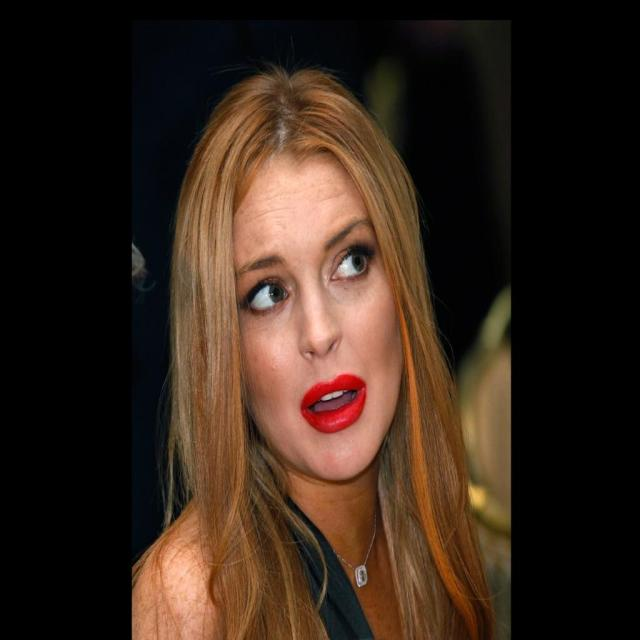Face: (213, 163, 410, 485)
